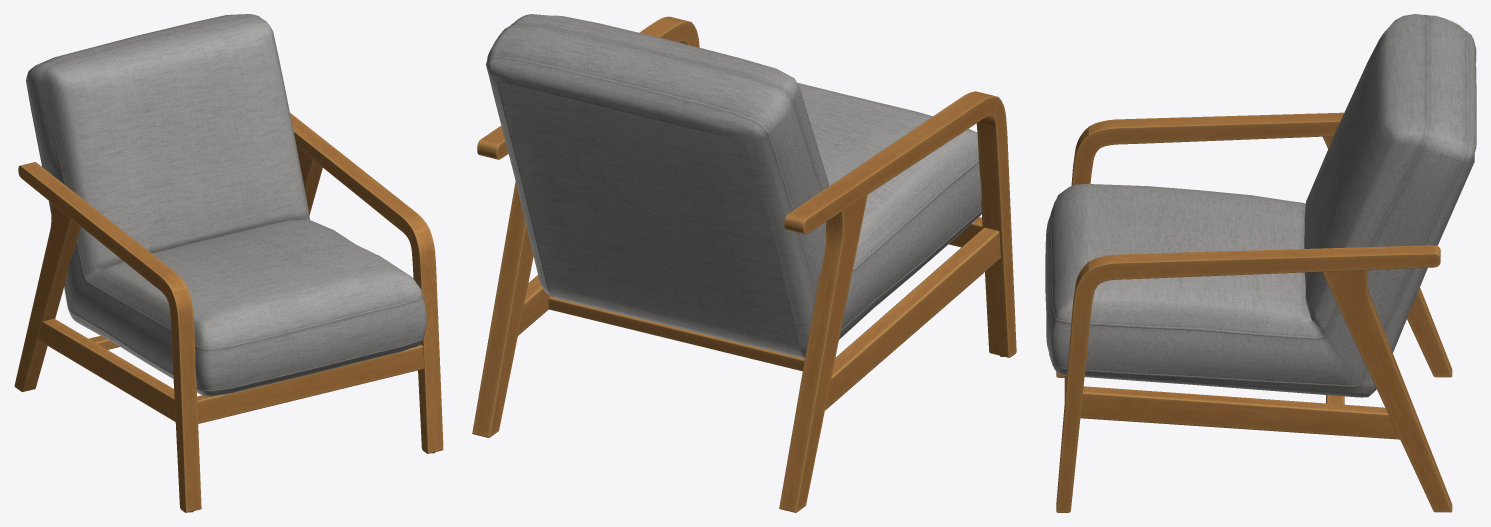
The model's file is chair2.glb.
3 views of the same model, side by side, from view 1: azimuth 30°, elevation 25°; view 2: azimuth 150°, elevation 25°; view 3: azimuth 270°, elevation 25° (orthographic). The views are drawn at different scales.
Visible parts, largest first — view 1: chair_low.001; view 2: chair_low.001; view 3: chair_low.001.
Part boxes in pixels (left/top/right/bottom): chair_low.001: left=14, top=14, right=443, bottom=512; chair_low.001: left=472, top=14, right=1016, bottom=512; chair_low.001: left=1045, top=14, right=1476, bottom=512.
Size of the model in its own units: 0.7082 by 0.8616 by 0.8973.
1 material, 1 textured.
